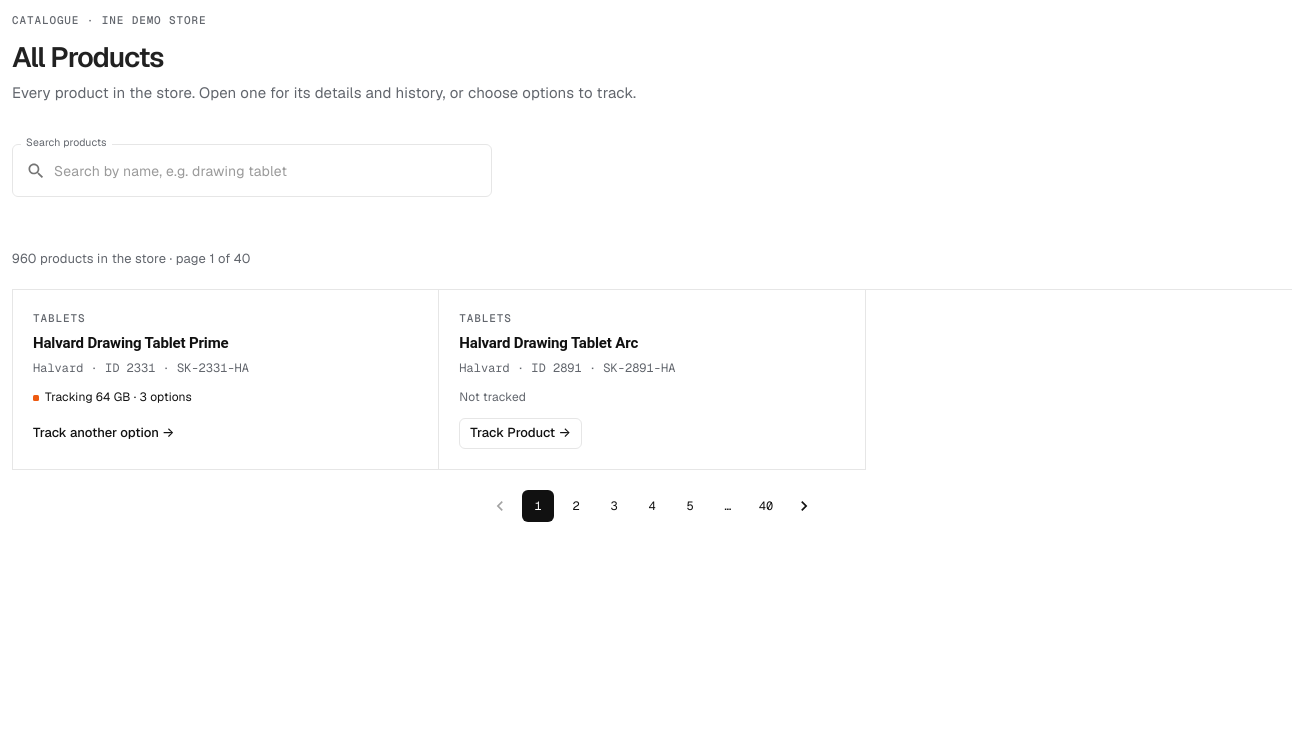
Test: All Products › pages through the catalogue on the server
The width and height of the screenshot is (1292, 732).
Expected: the text "960 products in the store · page 1 of 40" is shown, [12,250,251,268]
What coordinates should you click on to do the following:
click the button "2"
I would click on:
 (576, 506)
Its box is [560,490,592,522].
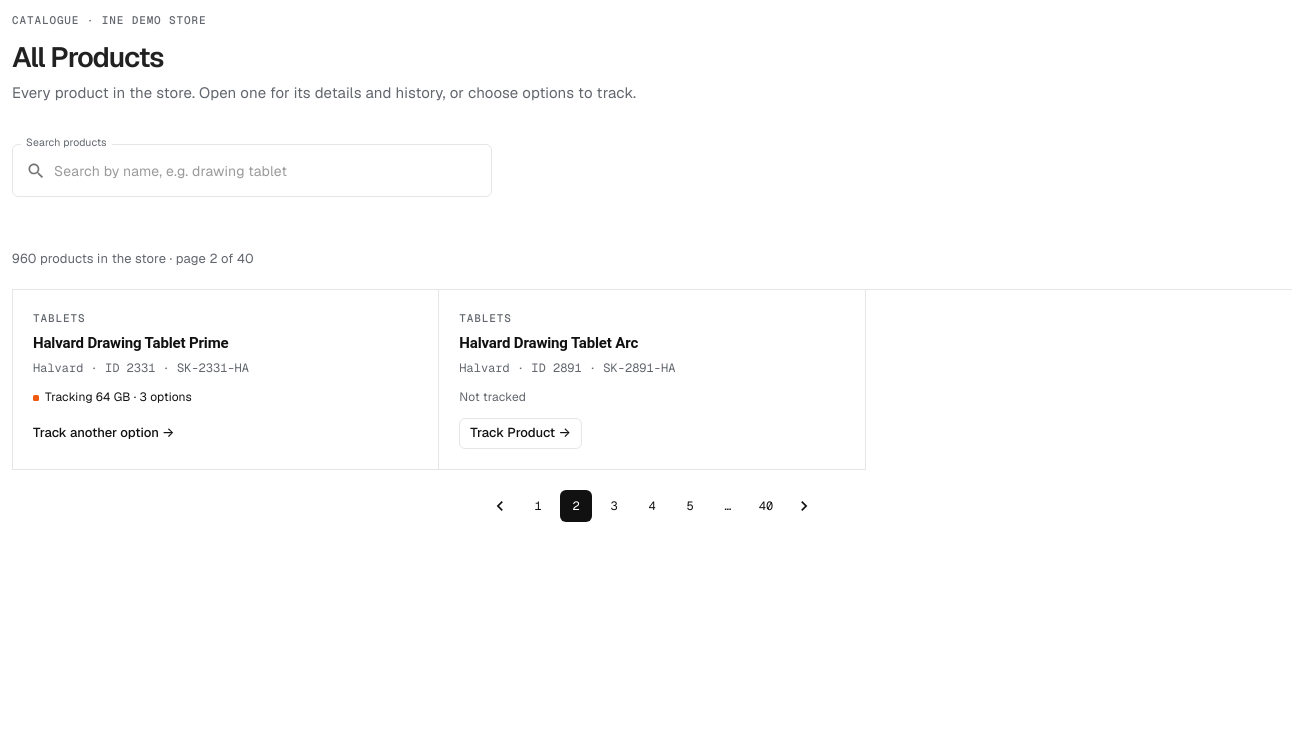
Now the text "960 products in the store · page 2 of 40" is shown, box [12,250,254,268]
